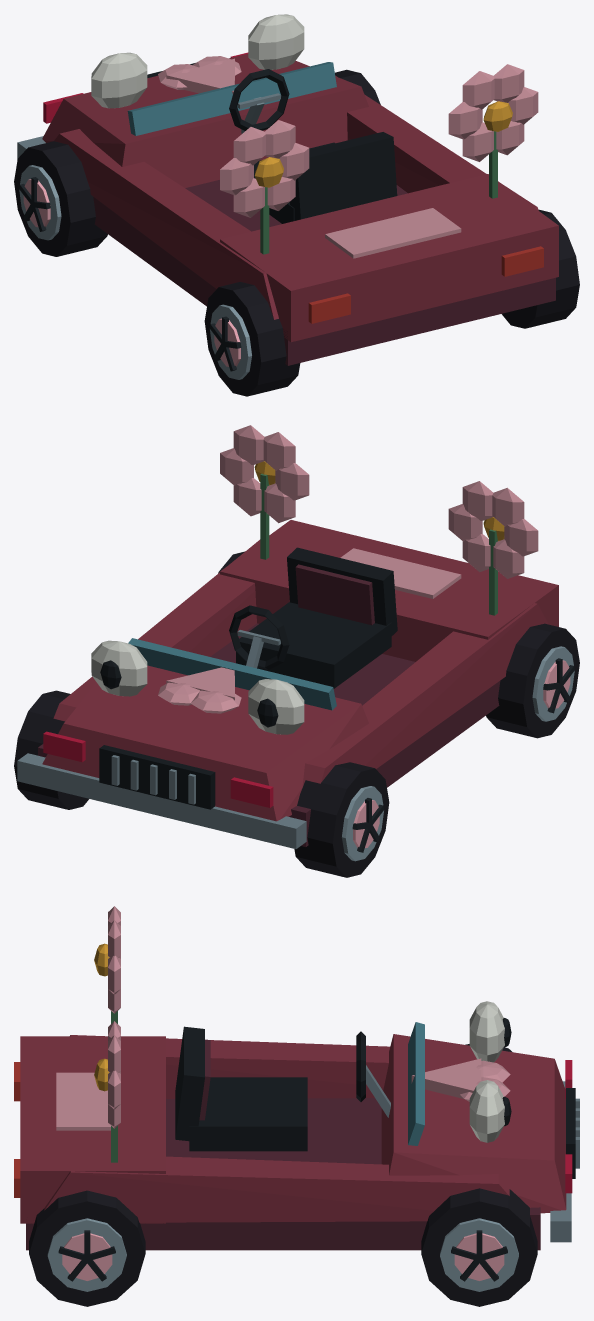
The model's file is kart.glb.
The picture shows the model from 3 angles, top to bottom: view 1: azimuth 30°, elevation 25°; view 2: azimuth 150°, elevation 25°; view 3: azimuth 270°, elevation 25°; orthographic projection. The views are drawn at different scales.
Parts seen in each view (by area): view 1: identity-sedan-sedan-road-car-body, identity-sedan-motif-flowers, identity-sedan-driver-cockpit, wheel-front-left, wheel-rear-left, identity-sedan-motif-eyes, wheel-rear-right, identity-sedan-motif-heart, wheel-front-right; view 2: identity-sedan-sedan-road-car-body, identity-sedan-driver-cockpit, identity-sedan-motif-flowers, wheel-front-left, wheel-rear-left, identity-sedan-motif-eyes, wheel-front-right, identity-sedan-motif-heart; view 3: identity-sedan-sedan-road-car-body, identity-sedan-driver-cockpit, wheel-front-right, wheel-rear-right, identity-sedan-motif-eyes, identity-sedan-motif-flowers, identity-sedan-motif-heart.
Part boxes in pixels (x1,y1,x2,y2): identity-sedan-sedan-road-car-body: (17, 52, 558, 365); identity-sedan-motif-flowers: (220, 64, 538, 254); identity-sedan-driver-cockpit: (229, 69, 397, 223); wheel-front-left: (14, 141, 107, 256); wheel-rear-left: (204, 282, 300, 396); identity-sedan-motif-eyes: (91, 14, 304, 108); wheel-rear-right: (502, 209, 579, 328); identity-sedan-motif-heart: (158, 56, 241, 93); wheel-front-right: (335, 69, 380, 104); identity-sedan-sedan-road-car-body: (17, 520, 558, 848); identity-sedan-driver-cockpit: (229, 547, 397, 688); identity-sedan-motif-flowers: (220, 425, 538, 615); wheel-front-left: (294, 762, 389, 877); wheel-rear-left: (486, 623, 579, 738); identity-sedan-motif-eyes: (91, 640, 304, 734); wheel-front-right: (14, 690, 88, 809); identity-sedan-motif-heart: (158, 667, 241, 713); identity-sedan-sedan-road-car-body: (14, 1022, 579, 1250); identity-sedan-driver-cockpit: (175, 1026, 390, 1151); wheel-front-right: (421, 1188, 537, 1306); wheel-rear-right: (29, 1190, 145, 1306); identity-sedan-motif-eyes: (469, 1001, 511, 1142); identity-sedan-motif-flowers: (94, 906, 120, 1162); identity-sedan-motif-heart: (411, 1058, 510, 1101).
Size of the model in its own units: 2.07 by 1.46 by 2.92.
